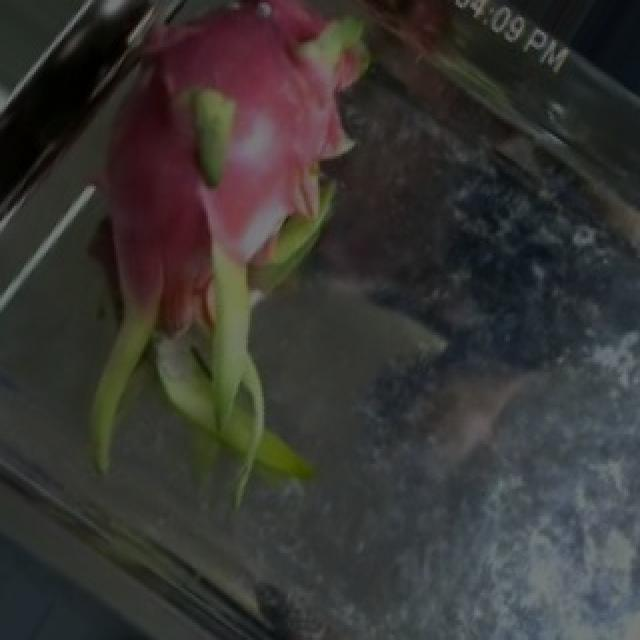fruit: (2, 0, 426, 432)
